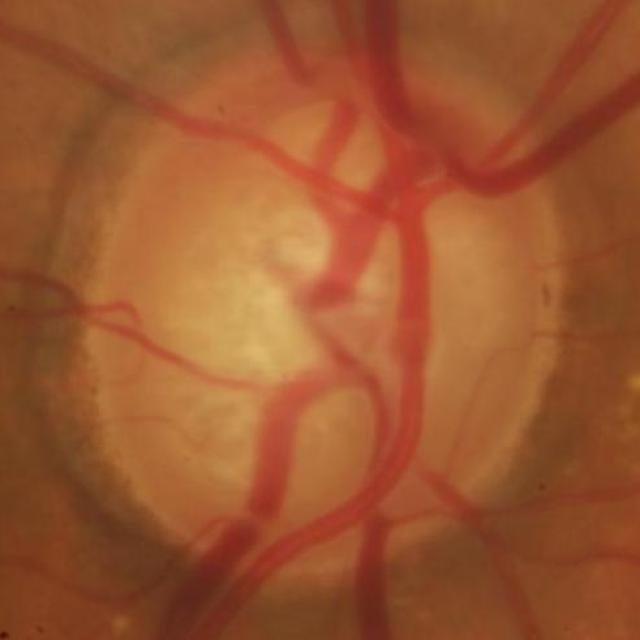OC: (183, 179, 399, 439)
OD: (82, 57, 552, 595)
